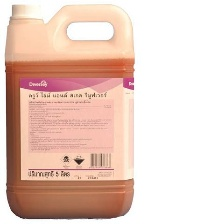cleaning_solution: (1, 0, 137, 221)
